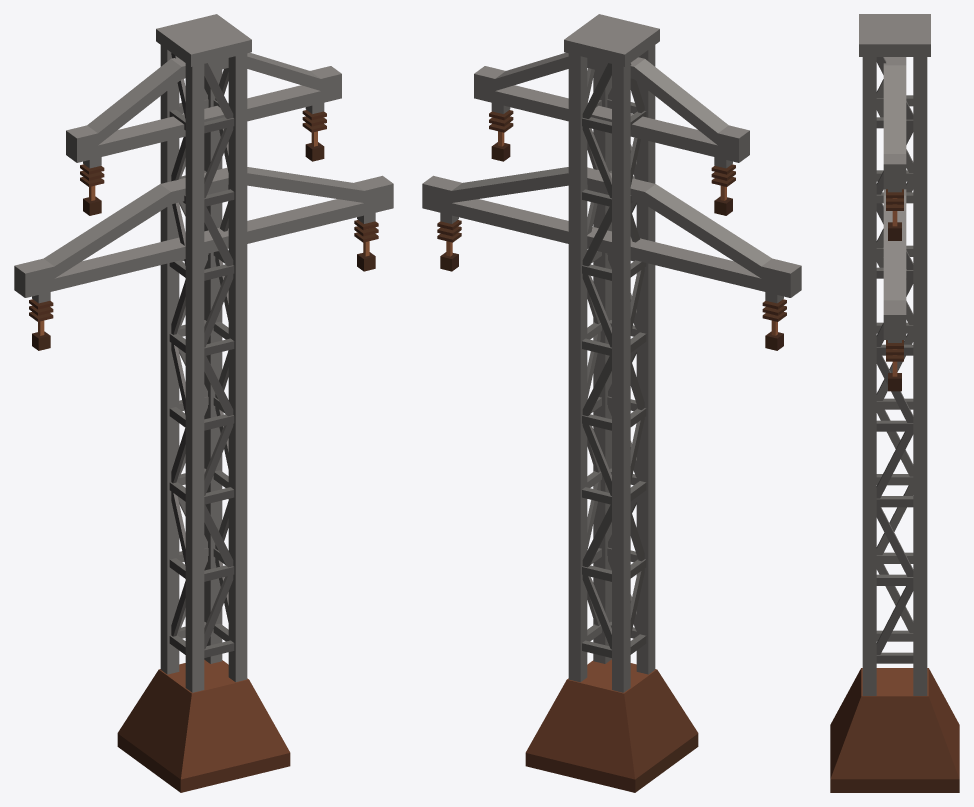
The model's file is SA_Bld_PowerLineLarge_01.gltf.
3 renders of one model, left to right at view 1: azimuth 30°, elevation 25°; view 2: azimuth 150°, elevation 25°; view 3: azimuth 270°, elevation 25°, orthographic.
Parts seen in each view (by area): view 1: SA_Bld_PowerLineLarge_01; view 2: SA_Bld_PowerLineLarge_01; view 3: SA_Bld_PowerLineLarge_01.
Part boxes in pixels (x1,y1,x2,y2): SA_Bld_PowerLineLarge_01: [14, 14, 393, 792]; SA_Bld_PowerLineLarge_01: [422, 14, 801, 792]; SA_Bld_PowerLineLarge_01: [830, 14, 959, 792].
Size of the model in its own units: 21.93 by 41.07 by 6.53.
Materials: 1 (1 with a texture image).
